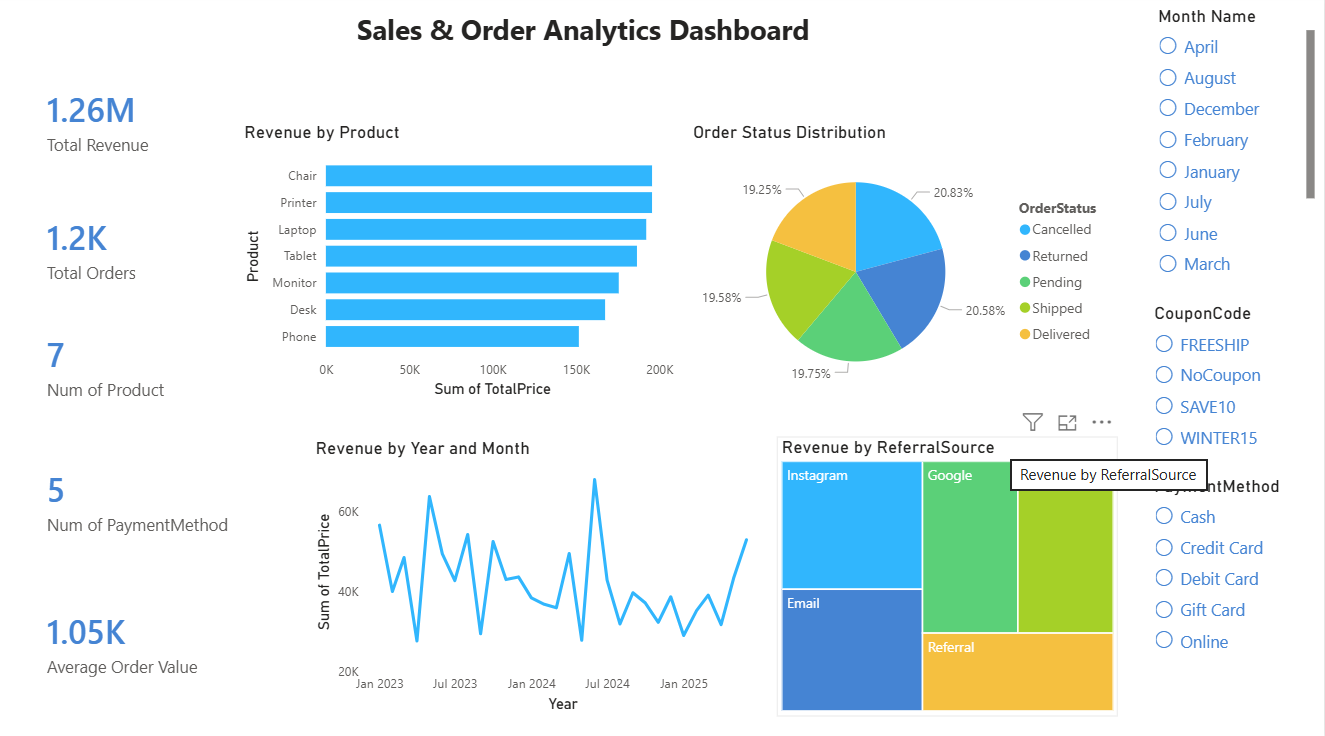

The page's visual inventory and layout, read from the dashboard file:
{"tool":"powerbi","page":{"name":"Page 1","canvas":[1280,720],"ordinal":0},"visuals":[{"type":"cardVisual","fields":{"Data":["Sum(Cleaned_Dataset_for_PowerBI.TotalPrice)"]},"box":[18.6,61.4,192.9,122.9],"z":0},{"type":"cardVisual","fields":{"Data":["Count(Cleaned_Dataset_for_PowerBI.OrderID)"]},"box":[18.6,184.3,192.9,122.9],"z":1000},{"type":"clusteredBarChart","title":"Revenue by Product","fields":{"Category":["Cleaned_Dataset_for_PowerBI.Product"],"Y":["Sum(Cleaned_Dataset_for_PowerBI.TotalPrice)"]},"box":[232.8,123.1,424.7,271.4],"z":2000},{"type":"pieChart","title":"Order Status Distribution","fields":{"Category":["Cleaned_Dataset_for_PowerBI.OrderStatus"],"Y":["CountNonNull(Cleaned_Dataset_for_PowerBI.OrderStatus)"]},"box":[666,123.1,416.2,271.4],"z":3000},{"type":"listSlicer","fields":{"Values":["Cleaned_Dataset_for_PowerBI.Month Name"]},"box":[1114.8,10.9,161.7,271.4],"z":4000},{"type":"cardVisual","fields":{"Data":["Count(Cleaned_Dataset_for_PowerBI.Product)"]},"box":[18.6,298.6,185.7,122.9],"z":5000},{"type":"cardVisual","fields":{"Data":["Count(Cleaned_Dataset_for_PowerBI.PaymentMethod)"]},"box":[18.6,428.6,244.3,122.9],"z":6000},{"type":"listSlicer","fields":{"Values":["Cleaned_Dataset_for_PowerBI.CouponCode"]},"box":[1111.1,298,168.9,154.4],"z":7000},{"type":"lineChart","title":"Revenue by Year and Month","fields":{"Category":["Cleaned_Dataset_for_PowerBI.YearMonth.Variation.Date Hierarchy.Year","Cleaned_Dataset_for_PowerBI.YearMonth.Variation.Date Hierarchy.Month"],"Y":["Sum(Cleaned_Dataset_for_PowerBI.TotalPrice)"]},"box":[301.4,428.6,450,270],"z":8000},{"type":"cardVisual","fields":{"Data":["Avg(Cleaned_Dataset_for_PowerBI.TotalPrice)"]},"box":[18.6,564.3,214.3,122.9],"z":9000},{"type":"treemap","title":"Revenue by ReferralSource","fields":{"Group":["Cleaned_Dataset_for_PowerBI.ReferralSource"],"Values":["Sum(Cleaned_Dataset_for_PowerBI.TotalPrice)"]},"box":[751.4,427.1,330,270],"z":10000},{"type":"textbox","box":[18.1,10.9,1093,70],"z":10002},{"type":"listSlicer","fields":{"Values":["Cleaned_Dataset_for_PowerBI.PaymentMethod"]},"box":[1111.1,464.5,168.9,244.9],"z":10003}]}

Visuals, with their boxes in screenshot pixels (x1, y1, x2, y2), scaled from the page's 1280x720 canvas onto the 1325x736 screenshot:
cardVisual - Sum(Cleaned_Dataset_for_PowerBI.TotalPrice): rect(19, 63, 219, 188)
cardVisual - Count(Cleaned_Dataset_for_PowerBI.OrderID): rect(19, 188, 219, 314)
"Revenue by Product" clusteredBarChart: rect(241, 126, 681, 403)
"Order Status Distribution" pieChart: rect(689, 126, 1120, 403)
listSlicer - Cleaned_Dataset_for_PowerBI.Month Name: rect(1154, 11, 1321, 289)
cardVisual - Count(Cleaned_Dataset_for_PowerBI.Product): rect(19, 305, 211, 431)
cardVisual - Count(Cleaned_Dataset_for_PowerBI.PaymentMethod): rect(19, 438, 272, 564)
listSlicer - Cleaned_Dataset_for_PowerBI.CouponCode: rect(1150, 305, 1324, 462)
"Revenue by Year and Month" lineChart: rect(312, 438, 778, 714)
cardVisual - Avg(Cleaned_Dataset_for_PowerBI.TotalPrice): rect(19, 577, 241, 702)
"Revenue by ReferralSource" treemap: rect(778, 437, 1119, 713)
textbox: rect(19, 11, 1150, 83)
listSlicer - Cleaned_Dataset_for_PowerBI.PaymentMethod: rect(1150, 475, 1324, 725)
